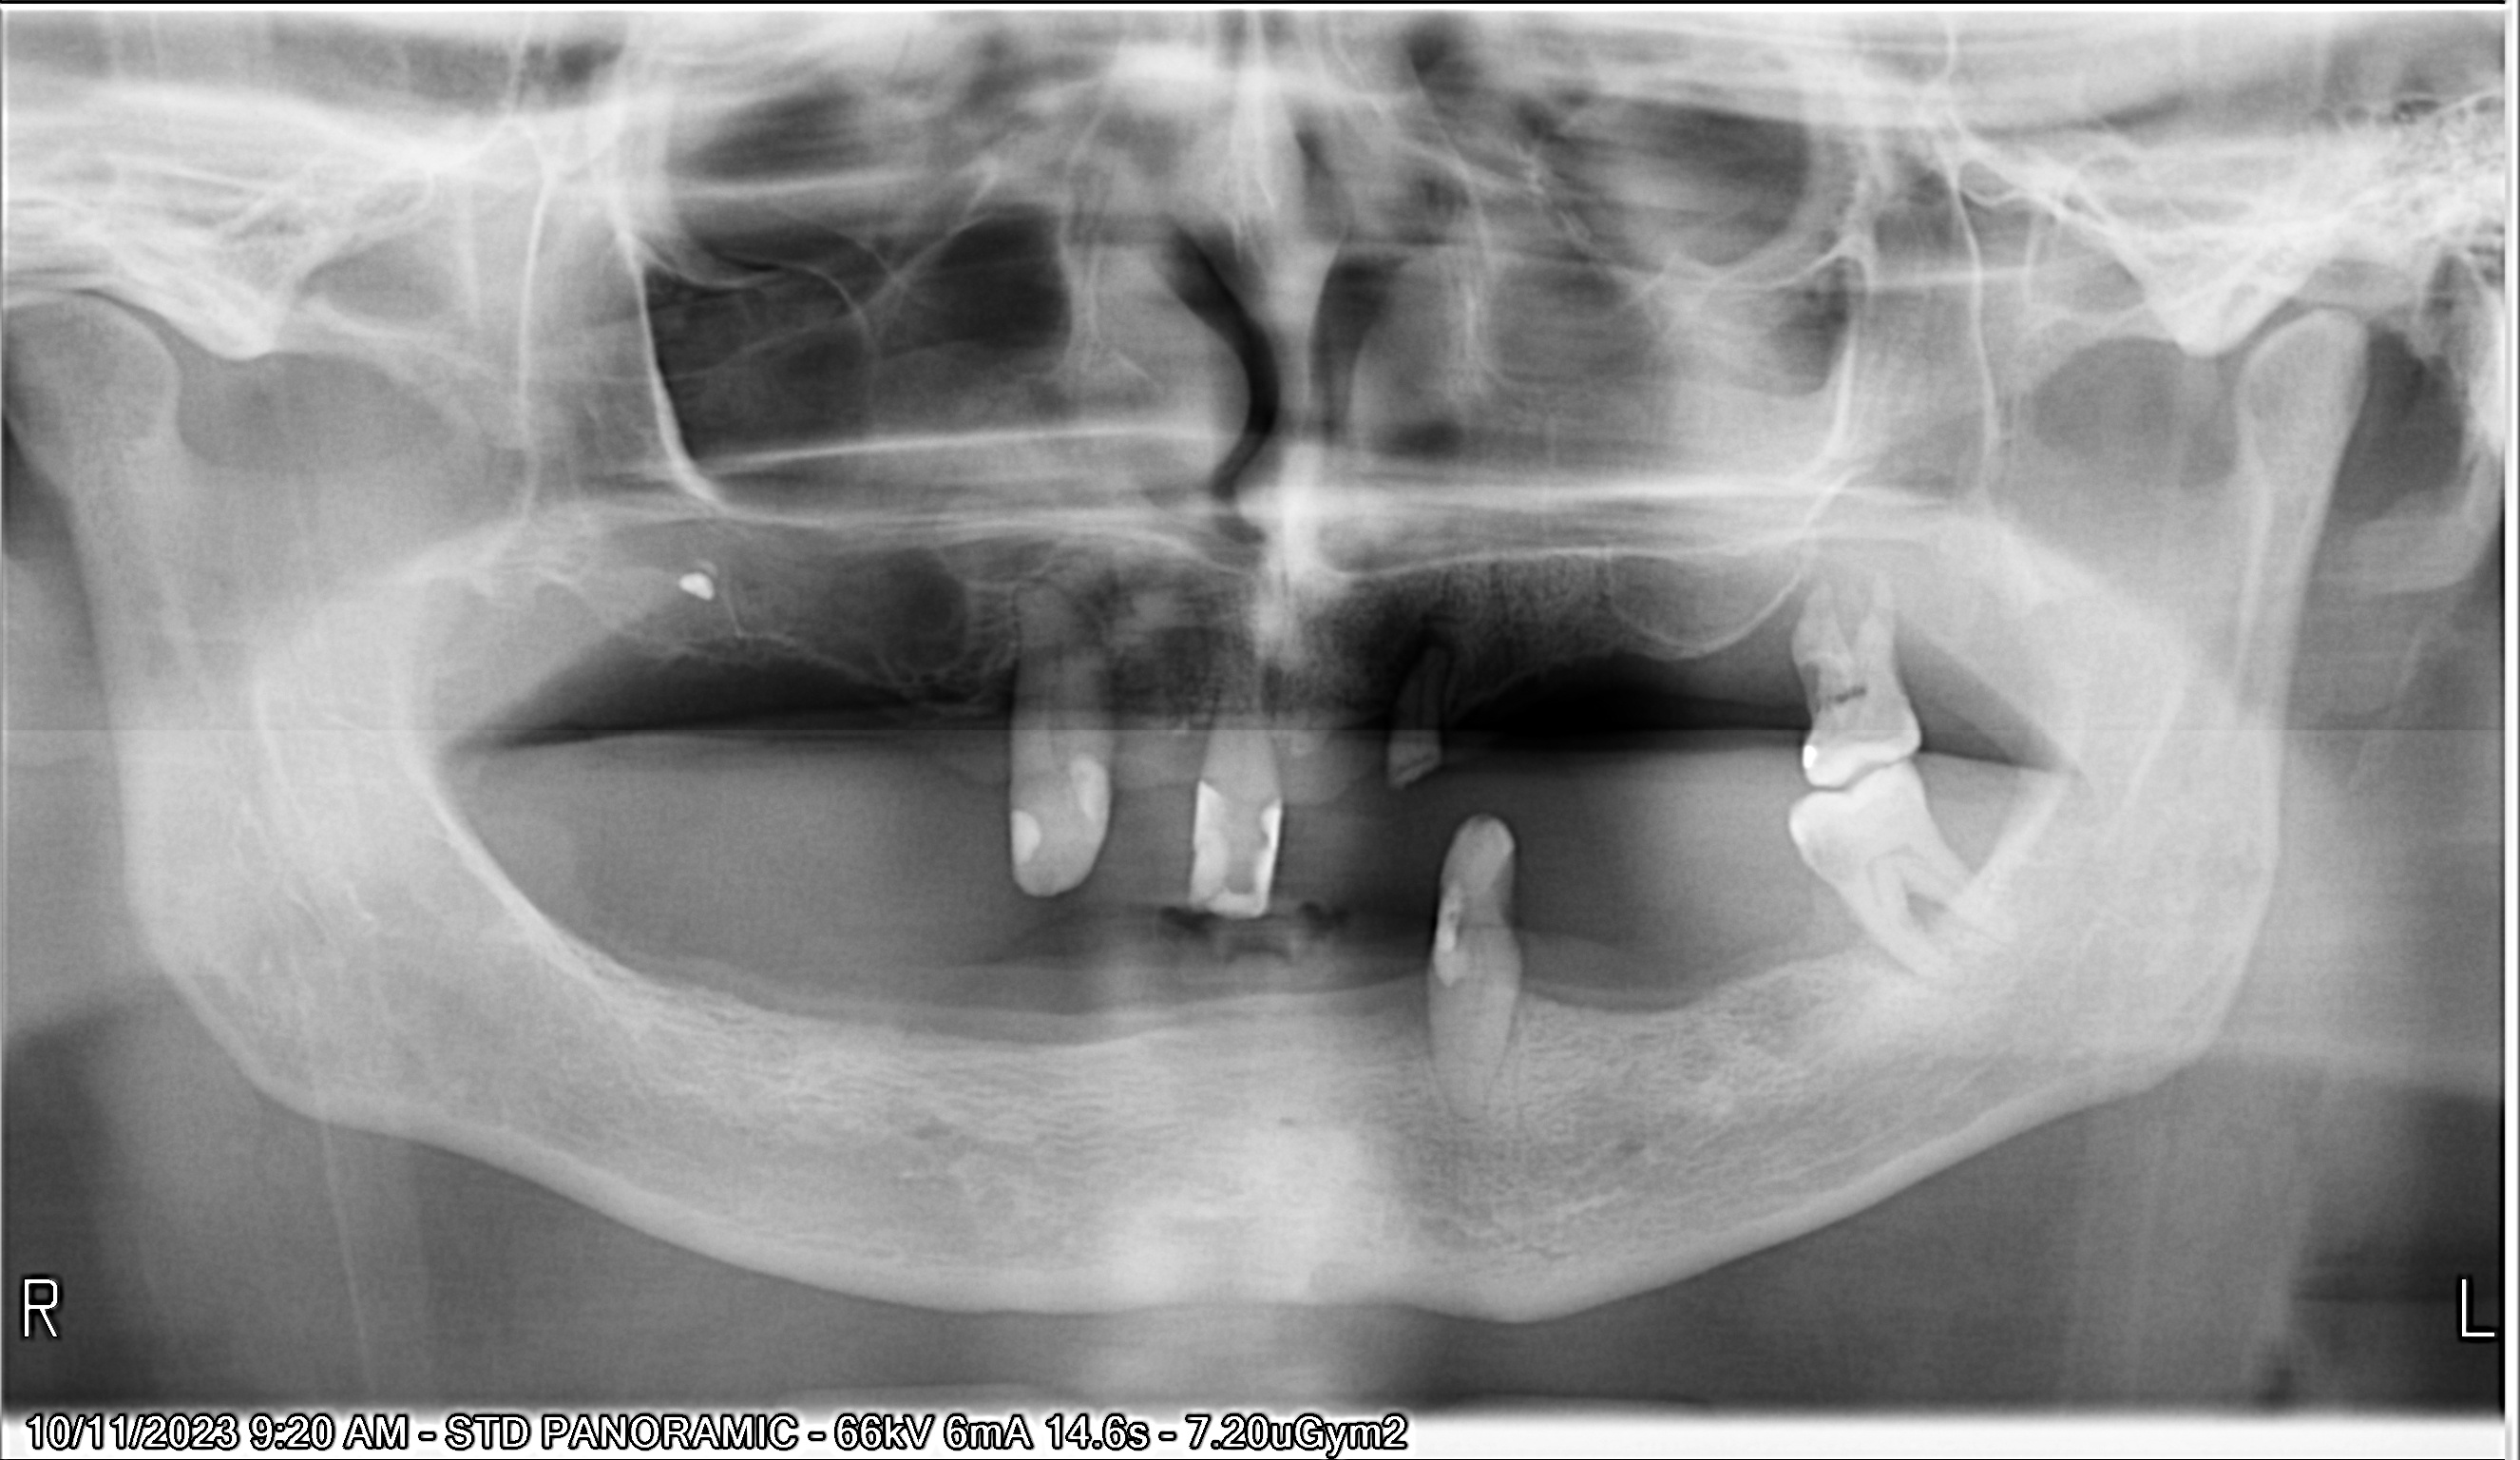BON: (854, 438, 2520, 1420)
CAR: (863, 382, 2520, 1281), (702, 370, 2237, 1323), (860, 289, 2520, 1022)
FUR: (893, 401, 2520, 1344)
OBT: (670, 391, 2145, 1382), (863, 332, 2520, 1128), (589, 335, 1881, 1253), (549, 308, 1785, 1244), (486, 318, 1608, 1168), (453, 356, 1514, 1244)
ROT: (623, 233, 2105, 1050)
